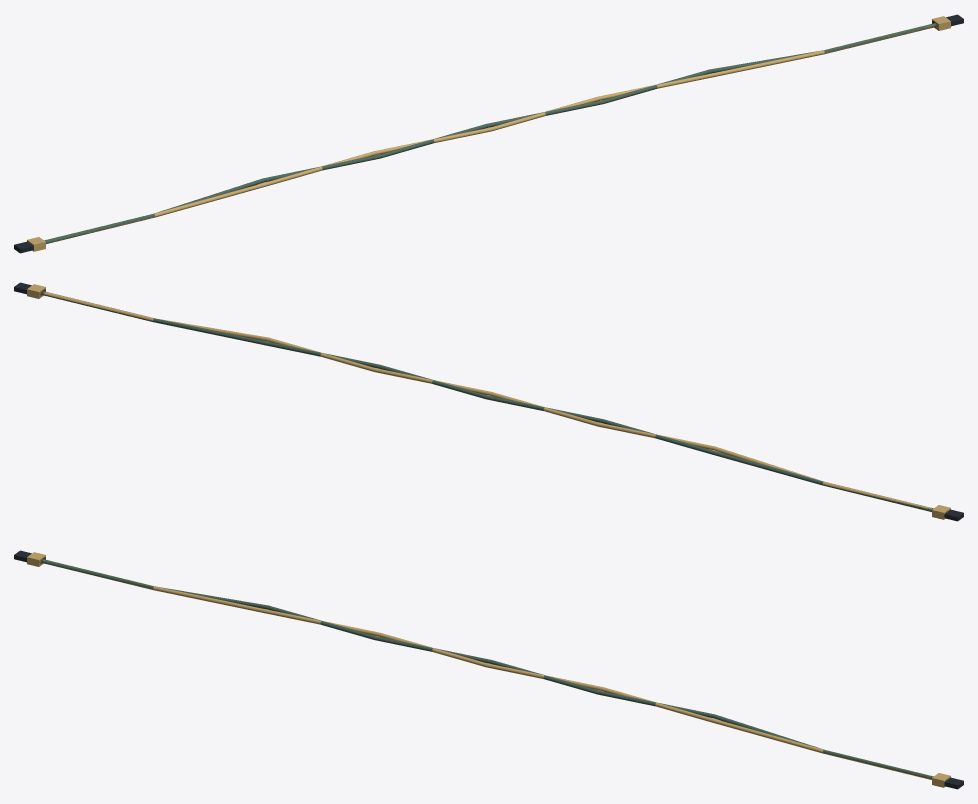
3 views of the same model, one above another, from view 1: azimuth 30°, elevation 25°; view 2: azimuth 150°, elevation 25°; view 3: azimuth 330°, elevation 25° (orthographic).
Parts seen in each view (by area): view 1: braided-strand-B, braided-strand-A; view 2: braided-strand-A, braided-strand-B; view 3: braided-strand-B, braided-strand-A.
Part boxes in pixels (left/top/right/bottom): braided-strand-B: left=45, top=24, right=934, bottom=243; braided-strand-A: left=45, top=23, right=934, bottom=243; braided-strand-A: left=43, top=291, right=932, bottom=511; braided-strand-B: left=44, top=291, right=931, bottom=510; braided-strand-B: left=44, top=560, right=932, bottom=779; braided-strand-A: left=43, top=559, right=932, bottom=778.
Bounding box in the file's own units: 1.41 × 0.0168 × 0.018.
